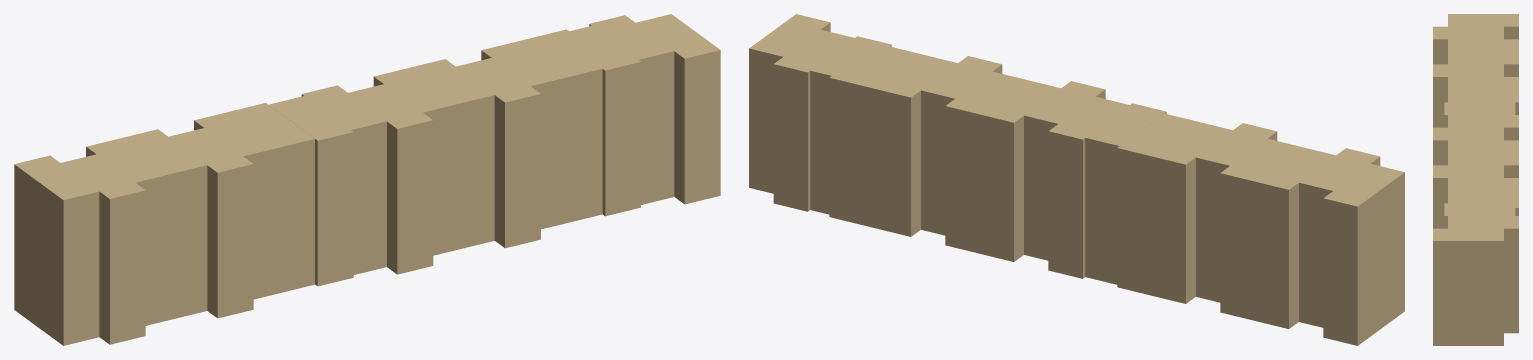
Rendered from Box_Type_1.fbx.
The picture shows the model from 3 angles, left to right: view 1: azimuth 30°, elevation 25°; view 2: azimuth 150°, elevation 25°; view 3: azimuth 270°, elevation 25°; orthographic projection. The views are drawn at different scales.
Parts seen in each view (by area): view 1: Box_Type_1; view 2: Box_Type_1; view 3: Box_Type_1.
Part boxes in pixels (x1,y1,x2,y2): Box_Type_1: (14, 14, 720, 345); Box_Type_1: (749, 14, 1404, 345); Box_Type_1: (1433, 14, 1518, 345).
Size of the model in its own units: 72 by 15.5 by 11.5.
